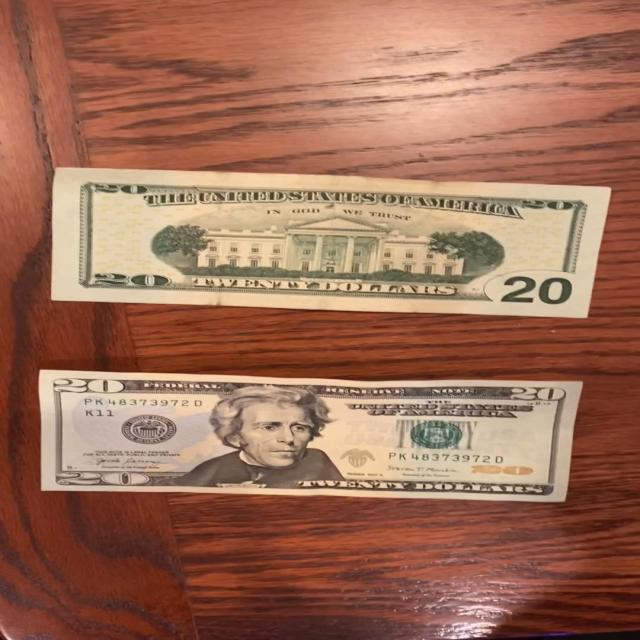20-Back: (43, 166, 618, 323)
20-Front: (27, 367, 591, 505)
